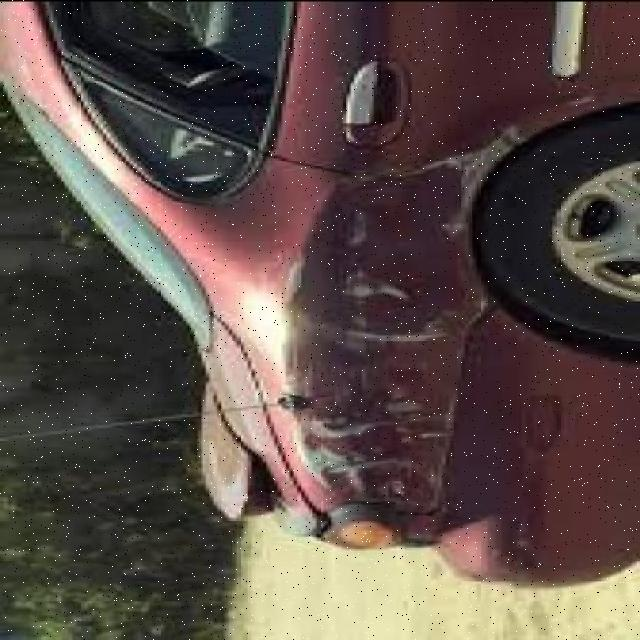damage: (281, 99, 604, 530)
